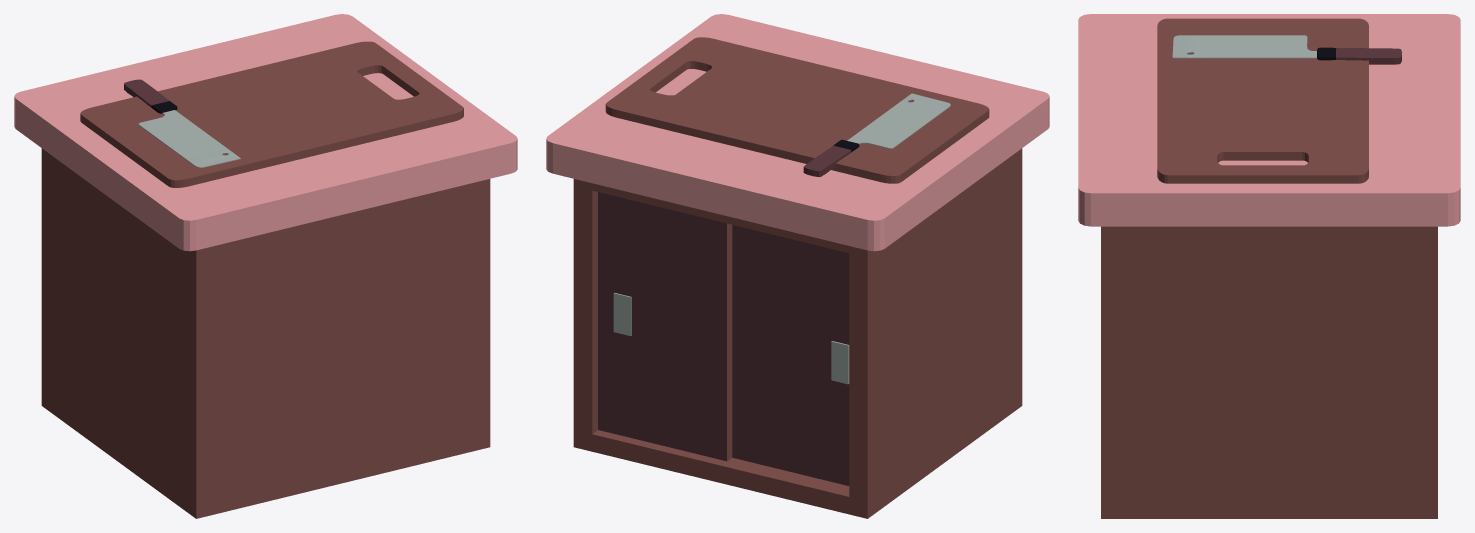
The model's file is BancadaCorte.fbx.
3 views of the same model, side by side, from view 1: azimuth 30°, elevation 25°; view 2: azimuth 150°, elevation 25°; view 3: azimuth 270°, elevation 25° (orthographic). The views are drawn at different scales.
Parts seen in each view (by area): view 1: Cube.014, Plane.004, Vert.002; view 2: Cube.014, Plane.004, Vert.002; view 3: Cube.014, Plane.004, Vert.002.
Boxes of the visible parts, x1,y1,x2,y2 form: Cube.014: [14, 14, 517, 518]; Plane.004: [80, 41, 463, 187]; Vert.002: [124, 79, 240, 167]; Cube.014: [546, 14, 1049, 518]; Plane.004: [605, 37, 989, 183]; Vert.002: [803, 93, 950, 176]; Cube.014: [1078, 14, 1460, 518]; Plane.004: [1157, 18, 1368, 183]; Vert.002: [1172, 35, 1401, 64].
Size of the model in its own units: 183 by 166 by 165.
